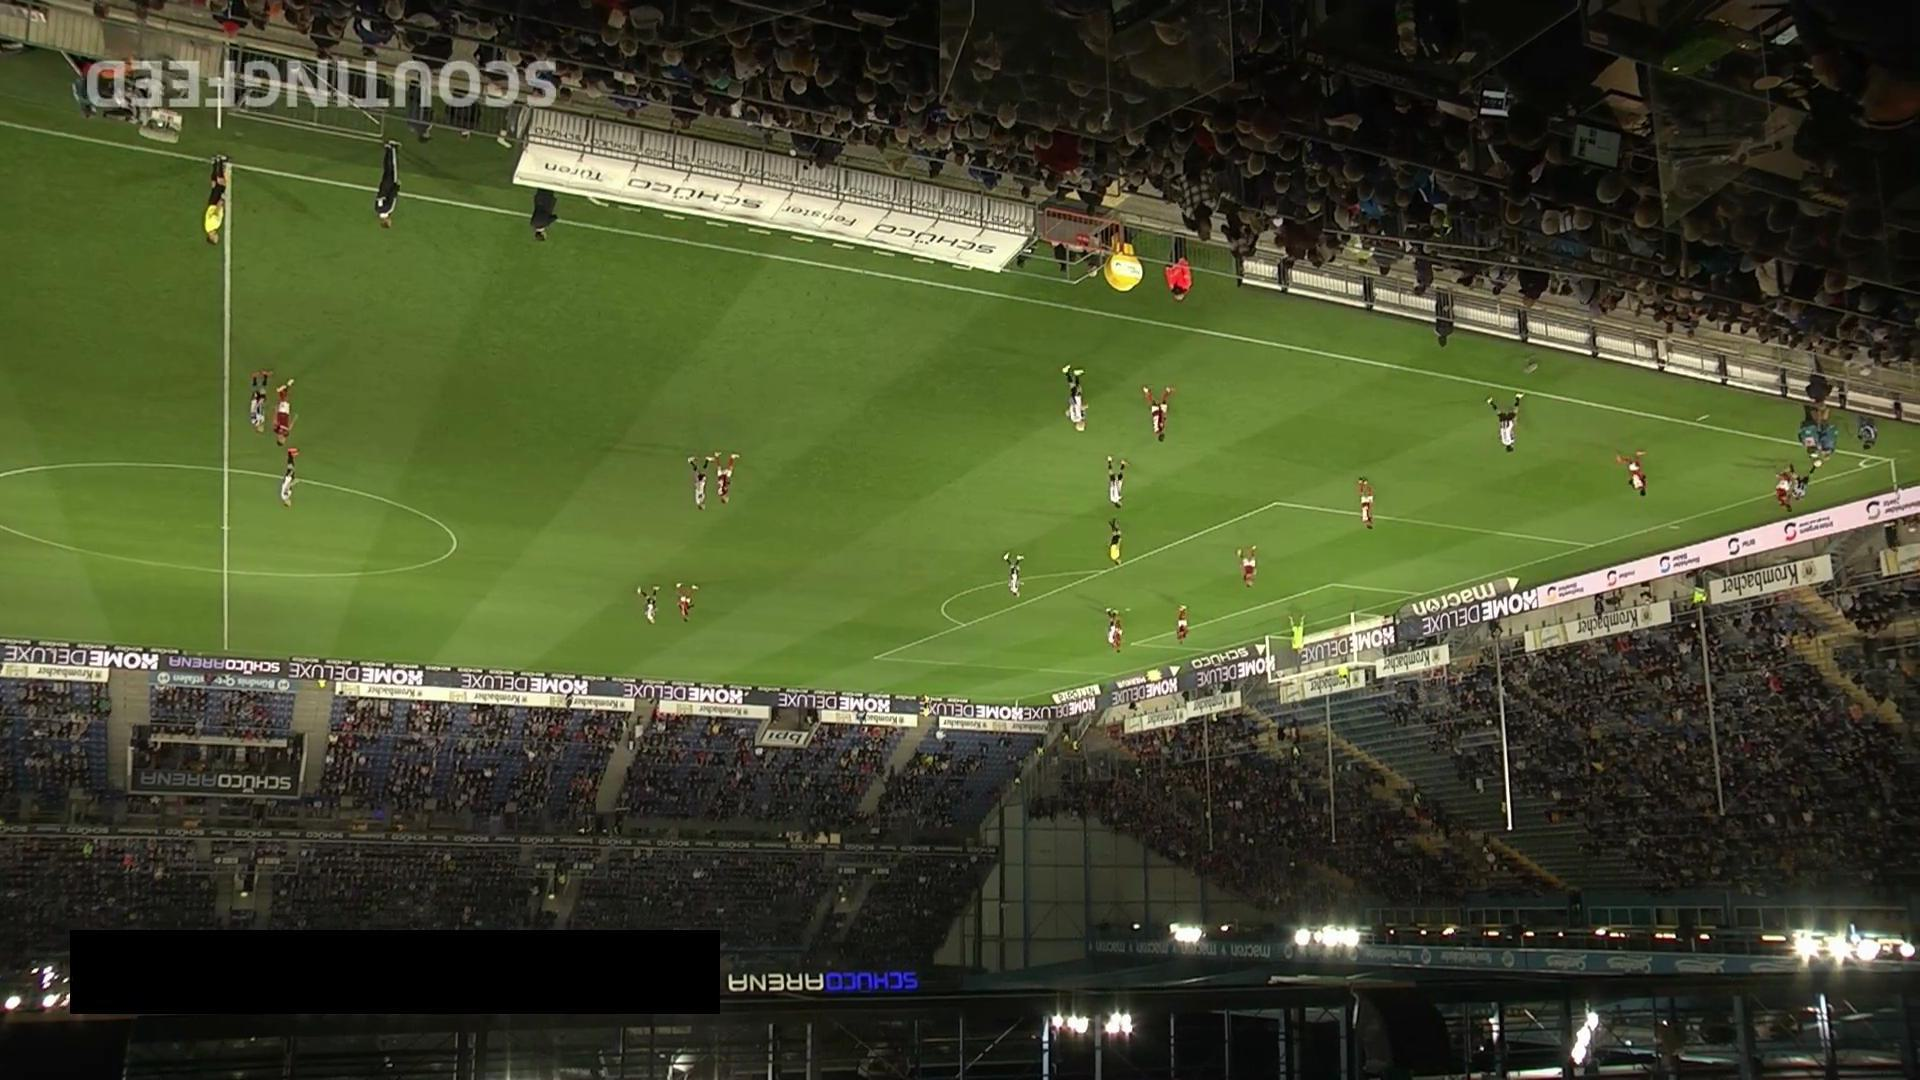ball: (1814, 460, 1824, 467)
goalkeeper: (1286, 612, 1308, 656)
player: (1485, 392, 1524, 454), (1142, 385, 1175, 443), (272, 378, 299, 448), (1062, 365, 1089, 433), (249, 370, 274, 435), (1614, 450, 1648, 497), (711, 451, 740, 505), (688, 456, 711, 512), (280, 448, 300, 509), (1107, 456, 1129, 510), (1772, 465, 1793, 516), (1787, 464, 1815, 501), (1004, 552, 1025, 599), (1357, 478, 1375, 530), (637, 586, 660, 625), (676, 583, 698, 623), (1238, 546, 1257, 588), (1105, 609, 1119, 646), (1176, 605, 1189, 644)
referee: (203, 154, 230, 246), (1106, 519, 1123, 567), (922, 693, 933, 718)
